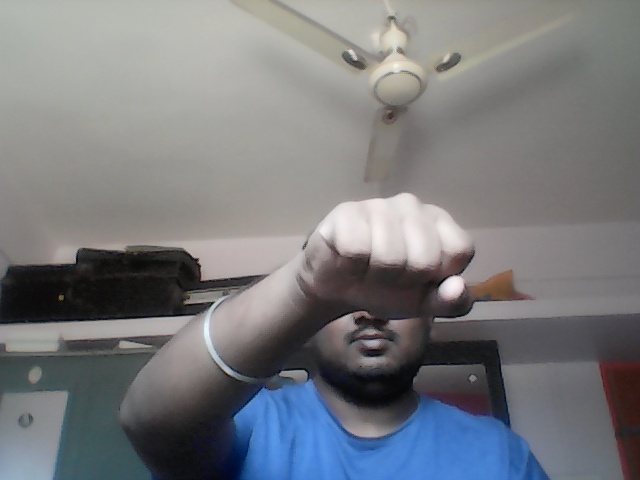Yes: (300, 187, 477, 323)
